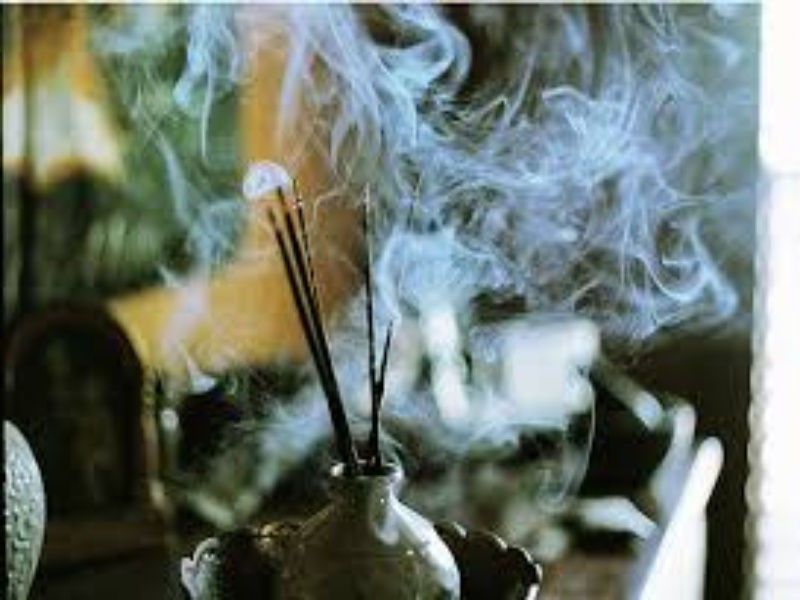smoke: (311, 32, 680, 324)
